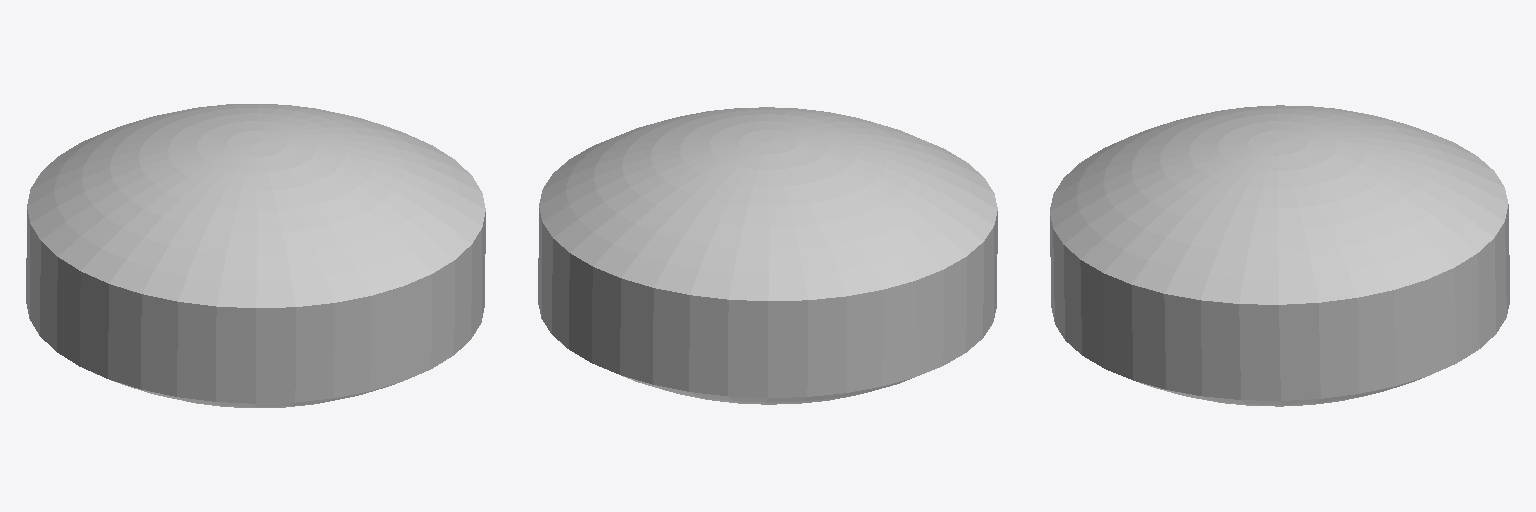
Rendered from lampbutton.obj.
The picture shows the model from 3 angles: view 1: azimuth 30°, elevation 25°; view 2: azimuth 150°, elevation 25°; view 3: azimuth 270°, elevation 25°; orthographic projection.
Visible parts, largest first — view 1: Lampara_Boton.001; view 2: Lampara_Boton.001; view 3: Lampara_Boton.001.
Boxes of the visible parts, <box> form: Lampara_Boton.001: <box>26,104,485,407</box>; Lampara_Boton.001: <box>538,107,997,404</box>; Lampara_Boton.001: <box>1050,105,1509,406</box>.
Size of the model in its own units: 1.48 by 0.8138 by 1.49.